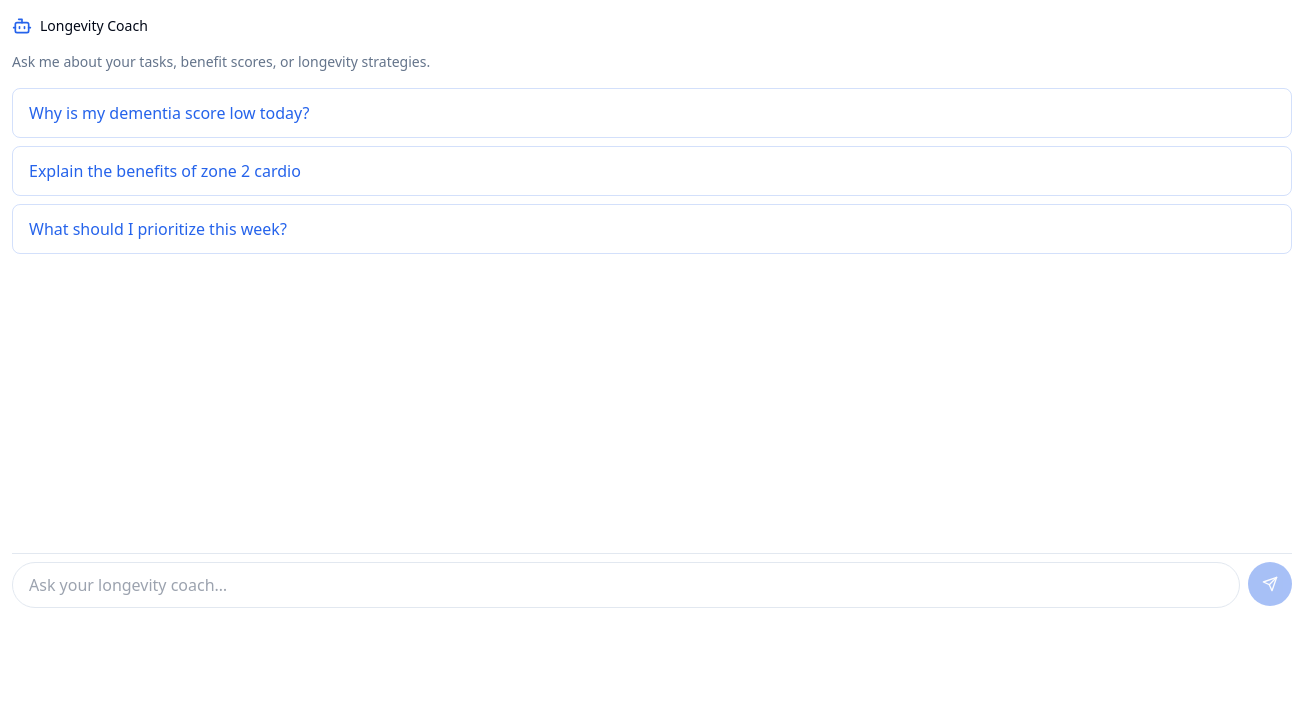
Test case: MarkdownMessage rendering › renders a numbered list with pill numbers
In the field with placeholder "Ask your longevity coach…": (626, 585) top-left (12, 562), bottom-right (1240, 608), type "test"
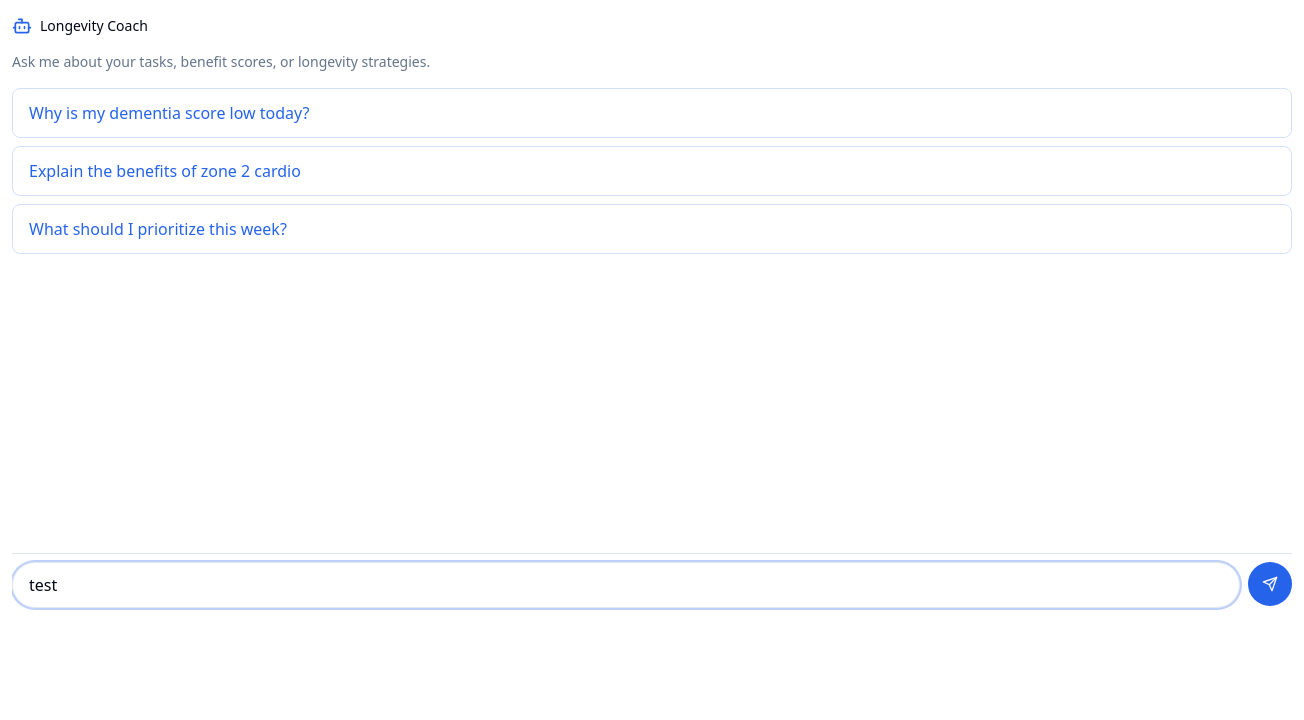
Click the 4th button: (1270, 584) top-left (1248, 562), bottom-right (1292, 606)
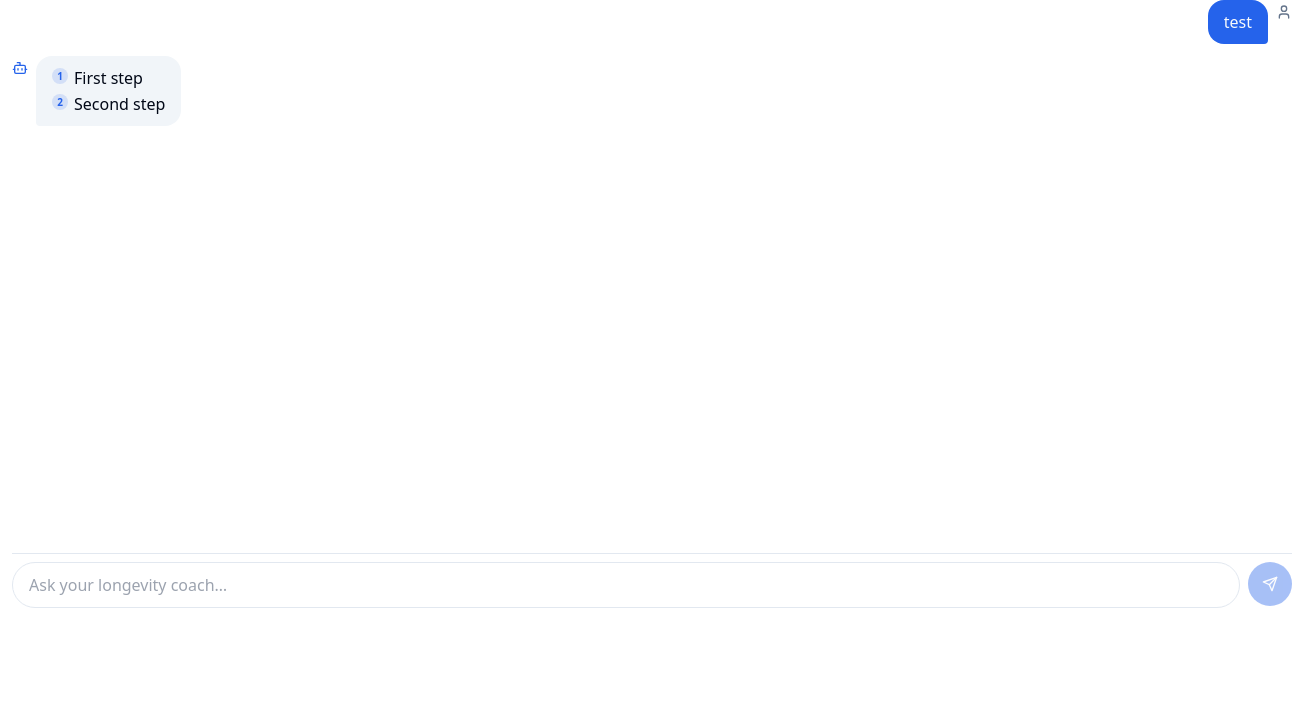
Expected: the text "1" is shown, top-left (52, 68), bottom-right (68, 84)
Expected: the text "First step" is shown, top-left (74, 66), bottom-right (143, 90)
Expected: the text "Second step" is shown, top-left (74, 92), bottom-right (165, 116)
